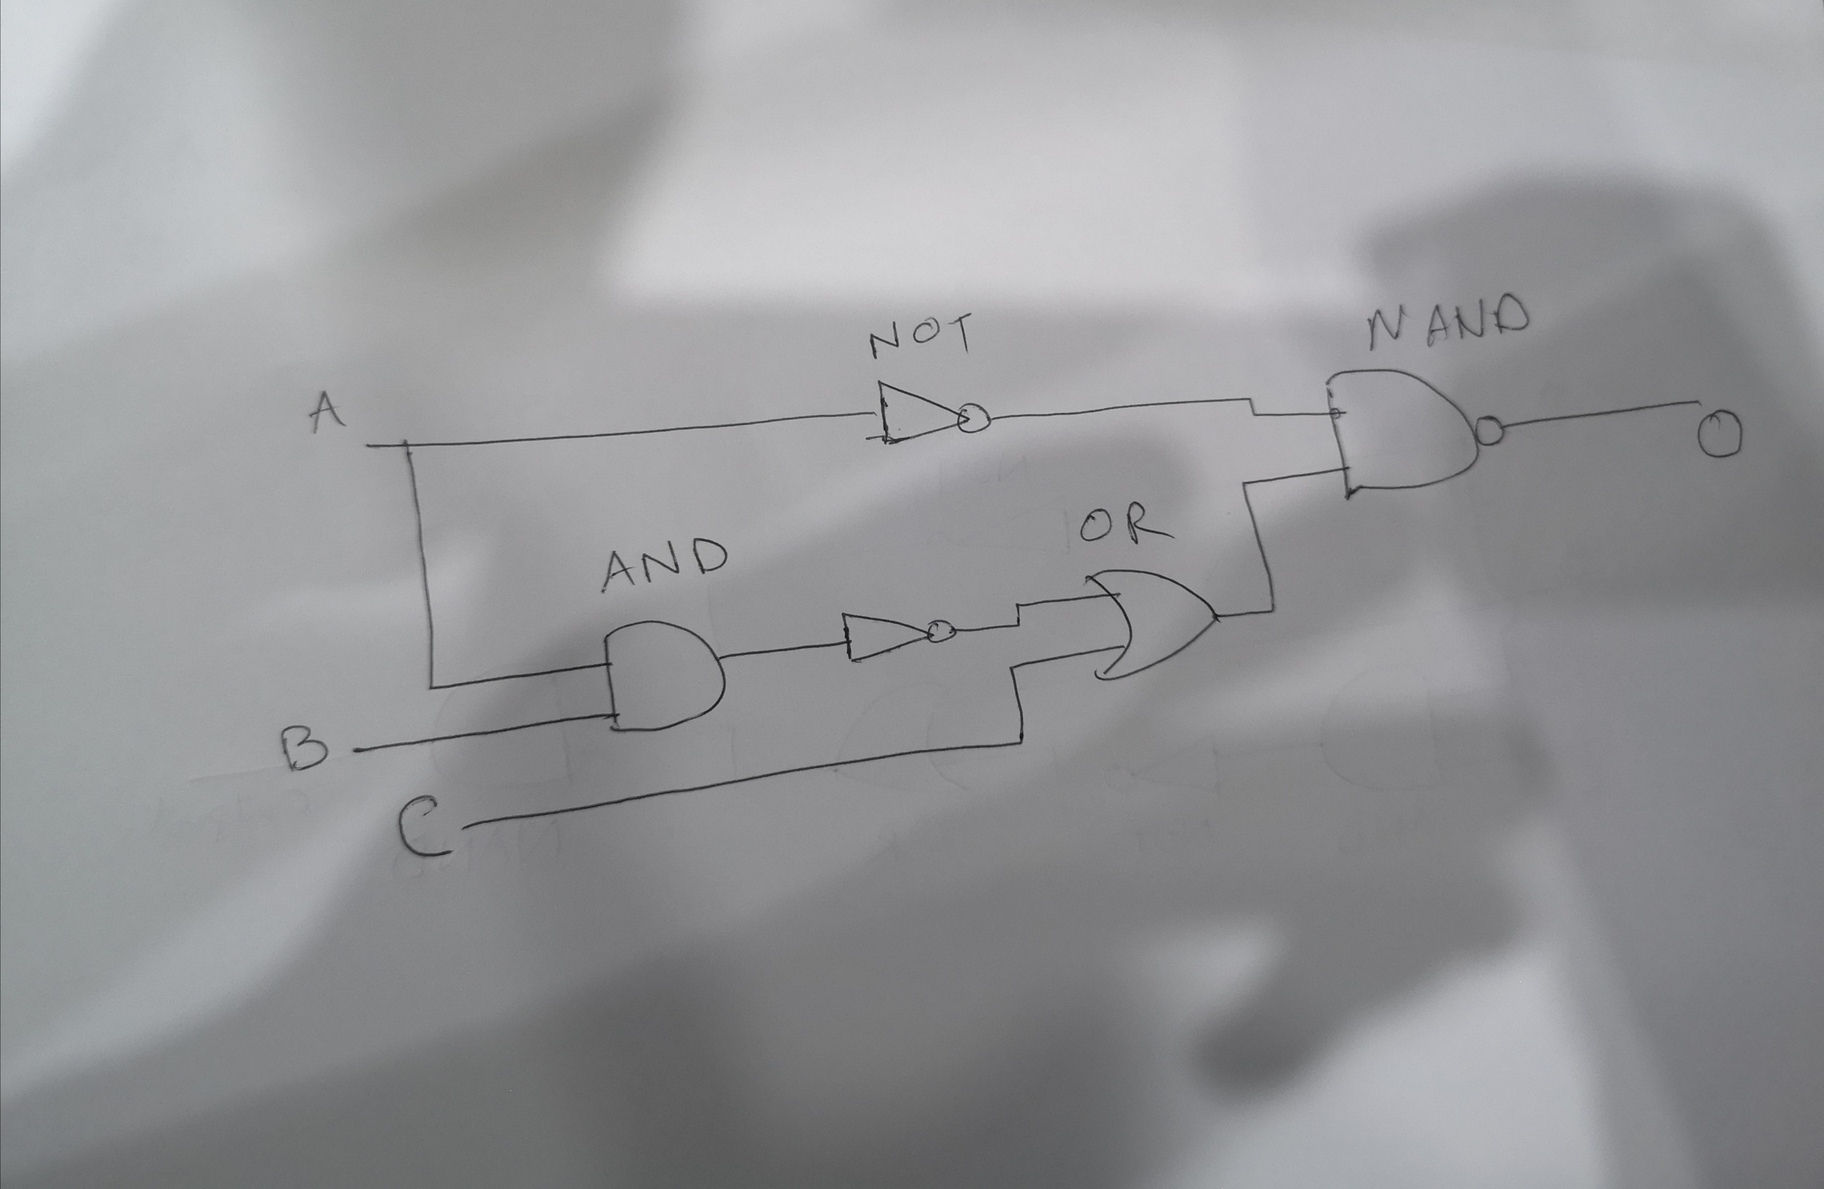and: (598, 612, 737, 739)
junction: (395, 434, 420, 458), (1009, 729, 1032, 754), (1001, 658, 1022, 680), (1232, 476, 1256, 495), (1262, 600, 1280, 618), (1243, 392, 1258, 412), (1244, 406, 1260, 422), (424, 680, 437, 696), (1010, 618, 1022, 630), (1010, 598, 1021, 609)
nand: (1319, 358, 1513, 505)
not: (859, 375, 996, 458), (832, 605, 964, 669)
or: (1081, 564, 1227, 686)
terminal: (452, 813, 475, 841), (347, 739, 370, 759), (1687, 388, 1706, 411), (358, 438, 378, 455)
text: (1363, 290, 1537, 352), (600, 537, 733, 591), (868, 309, 981, 371), (392, 787, 459, 862), (1073, 501, 1170, 551), (271, 717, 334, 777), (1692, 406, 1750, 464), (307, 388, 350, 436)
